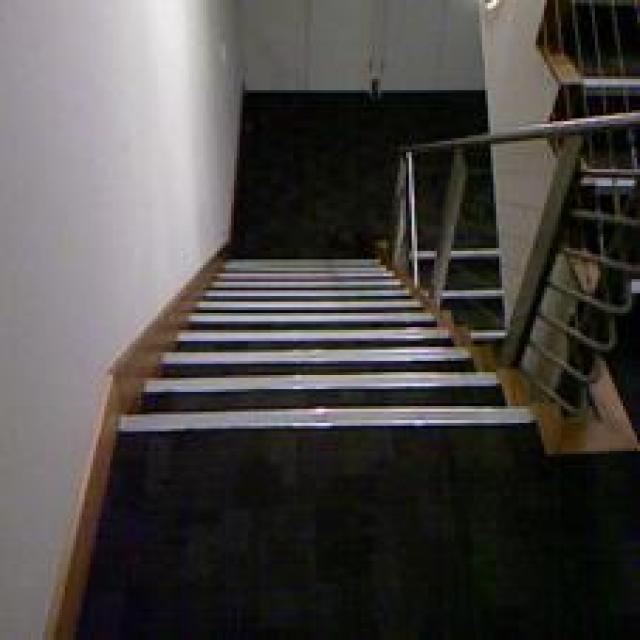downstair: (94, 311, 542, 472)
